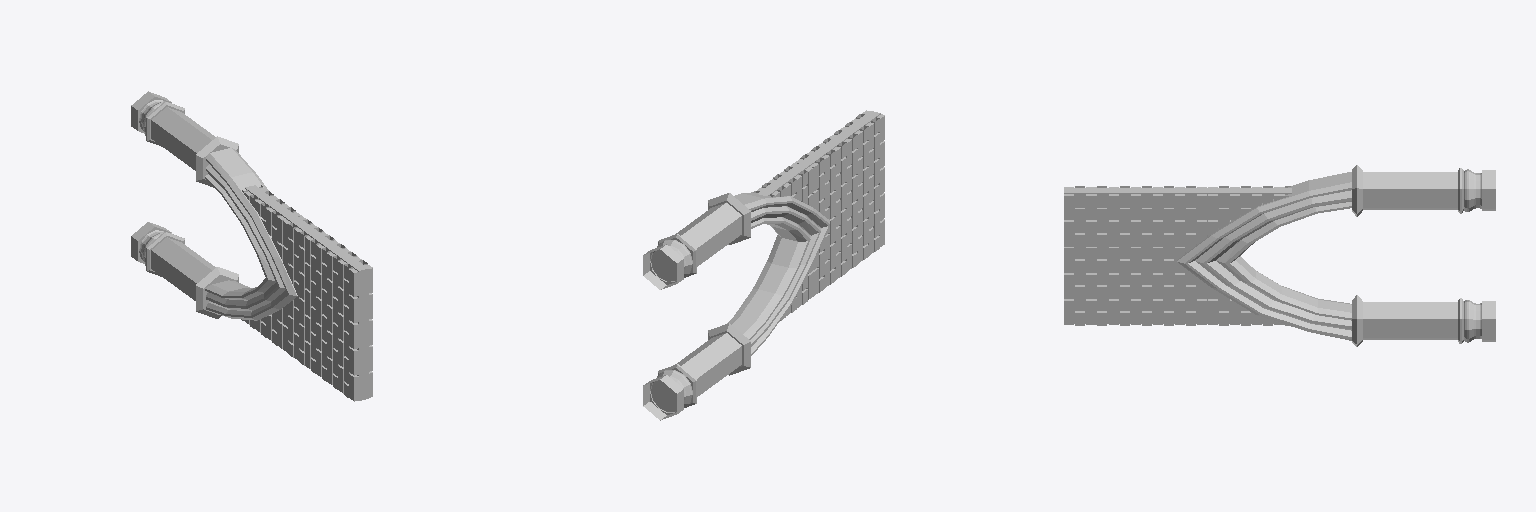
Rendered from UTF-8Regular Stone Tile Archway needs 7.5m wall.obj.
3 views of the same model, side by side, from view 1: azimuth 30°, elevation 25°; view 2: azimuth 150°, elevation 25°; view 3: azimuth 270°, elevation 25° (orthographic).
Parts seen in each view (by area): view 1: Cylinder; view 2: Cylinder; view 3: Cylinder.
Part boxes in pixels (bbox=[...]): Cylinder: bbox=[131, 91, 372, 401]; Cylinder: bbox=[643, 110, 884, 420]; Cylinder: bbox=[1064, 165, 1495, 346].
Bounding box in the file's own units: 0.8783 × 3.51 × 7.5.